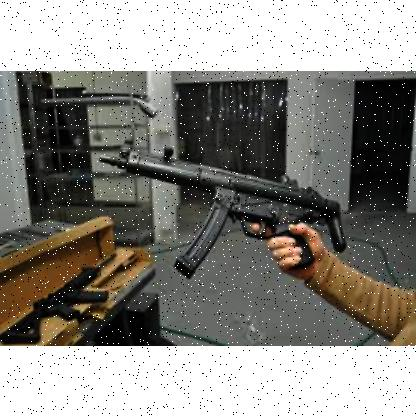gun: (98, 134, 344, 278)
